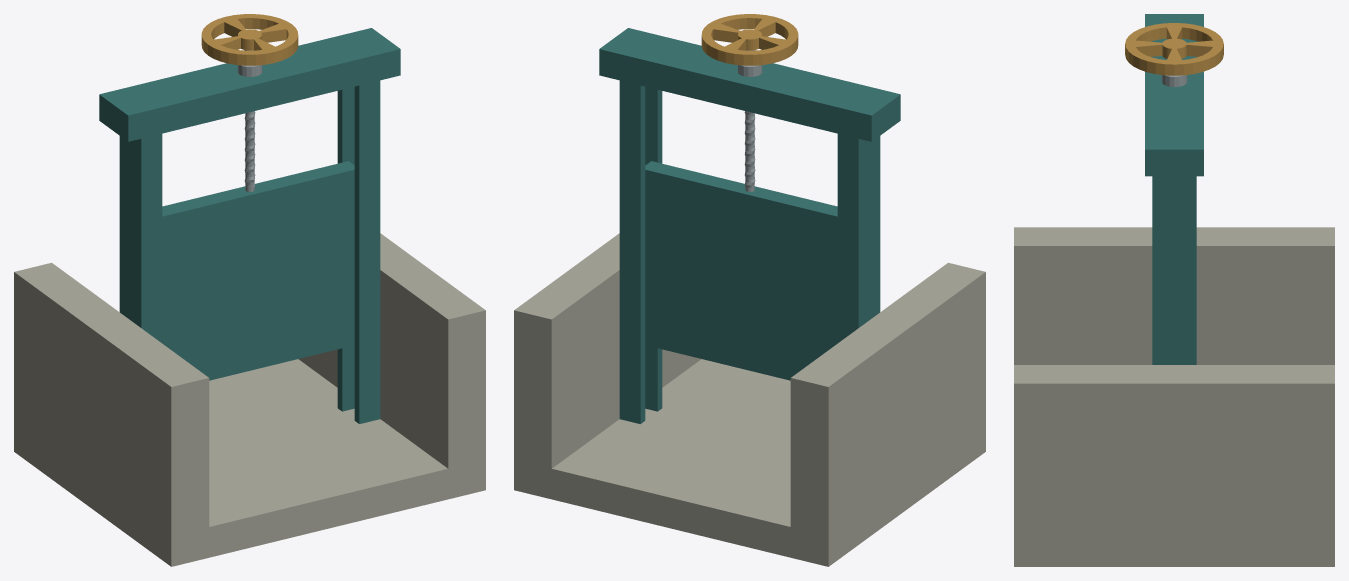
3 views of the same model, side by side, from view 1: azimuth 30°, elevation 25°; view 2: azimuth 150°, elevation 25°; view 3: azimuth 270°, elevation 25° (orthographic).
Visible parts, largest first — view 1: ContinuousUChannel, ThickHalfOpenGate, BoredCrosshead, OpenCGuide_Right, OpenCGuide_Left, FourApertureHandwheel, HelicalSpindleAndCollar; view 2: ContinuousUChannel, ThickHalfOpenGate, BoredCrosshead, OpenCGuide_Right, OpenCGuide_Left, FourApertureHandwheel, HelicalSpindleAndCollar; view 3: ContinuousUChannel, OpenCGuide_Right, BoredCrosshead, FourApertureHandwheel.
Boxes of the visible parts, <box> form: ContinuousUChannel: <box>14,233,485,566</box>; ThickHalfOpenGate: <box>162,161,354,380</box>; BoredCrosshead: <box>99,28,400,141</box>; OpenCGuide_Right: <box>337,80,380,423</box>; OpenCGuide_Left: <box>119,133,162,342</box>; FourApertureHandwheel: <box>201,14,298,65</box>; HelicalSpindleAndCollar: <box>237,50,262,191</box>; ContinuousUChannel: <box>514,233,985,566</box>; ThickHalfOpenGate: <box>645,161,837,380</box>; BoredCrosshead: <box>599,28,900,141</box>; OpenCGuide_Right: <box>619,80,662,423</box>; OpenCGuide_Left: <box>837,133,880,342</box>; FourApertureHandwheel: <box>701,14,798,65</box>; HelicalSpindleAndCollar: <box>737,50,762,191</box>; ContinuousUChannel: <box>1014,227,1334,566</box>; OpenCGuide_Right: <box>1152,176,1196,364</box>; BoredCrosshead: <box>1145,14,1203,176</box>; FourApertureHandwheel: <box>1125,23,1223,75</box>.
Bounding box in the file's own units: 1.5 × 1.99 × 1.3.
